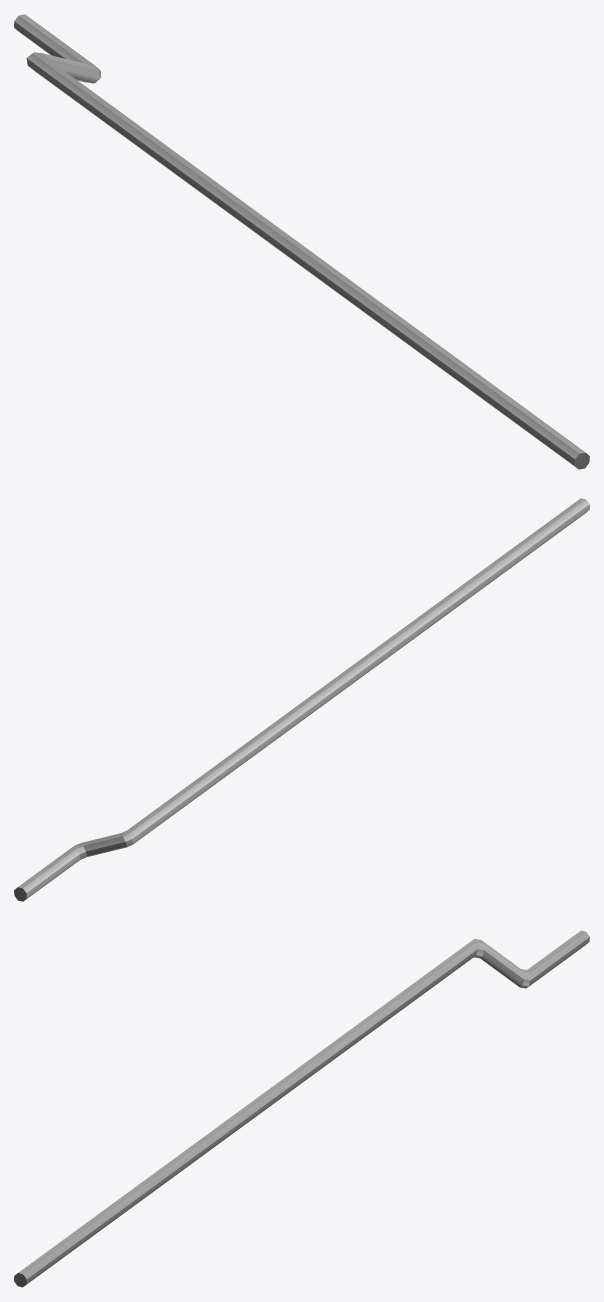
File: Lichon_Skewer.FBX
3 views of the same model, one above another, from view 1: azimuth 30°, elevation 25°; view 2: azimuth 150°, elevation 25°; view 3: azimuth 330°, elevation 25° (orthographic). The views are drawn at different scales.
Parts seen in each view (by area): view 1: Line001; view 2: Line001; view 3: Line001.
Part boxes in pixels (x1=…): Line001: x1=14, y1=14, x2=589, y2=469; Line001: x1=14, y1=498, x2=589, y2=901; Line001: x1=14, y1=930, x2=589, y2=1287.
Bounding box in the file's own units: 14.07 × 8.15 × 208.
Materials: 1 (1 with a texture image).
